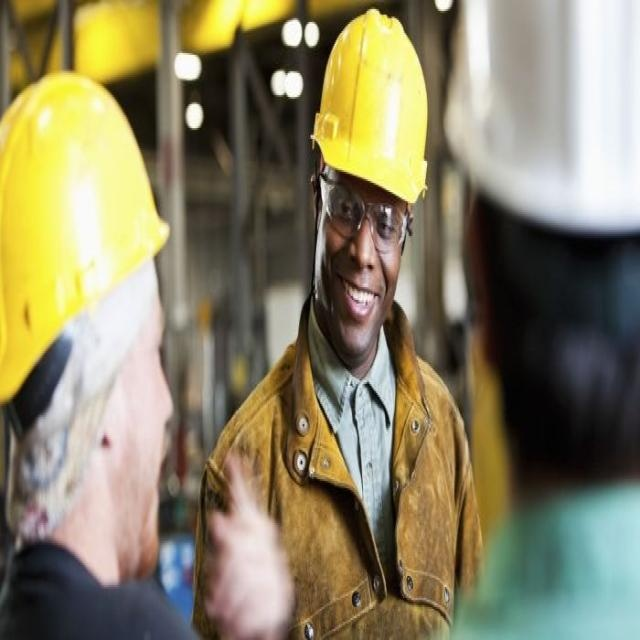Con_Casco: (0, 92, 169, 457), (314, 5, 428, 347)
